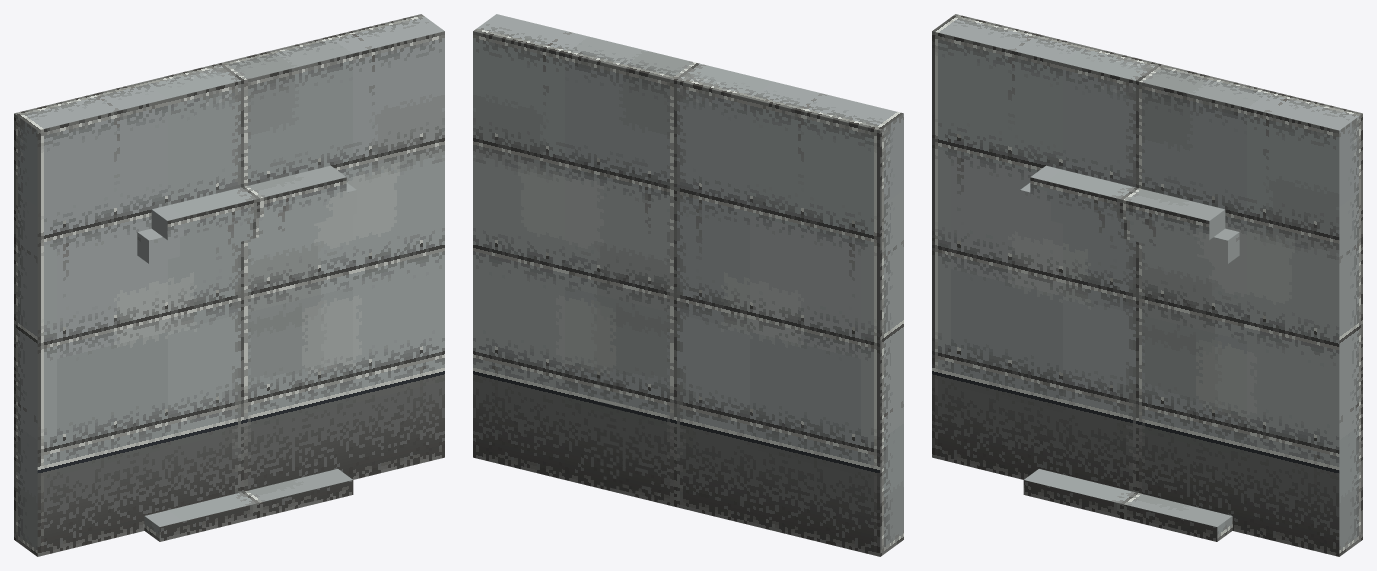
Rendered from arch_wall_variant_b.glb.
The picture shows the model from 3 angles, left to right: view 1: azimuth 30°, elevation 25°; view 2: azimuth 150°, elevation 25°; view 3: azimuth 330°, elevation 25°; orthographic projection.
Visible parts, largest first — view 1: arch_wall_variant_b; view 2: arch_wall_variant_b; view 3: arch_wall_variant_b.
Boxes of the visible parts, x1=… form: arch_wall_variant_b: x1=14, y1=14, x2=444, y2=556; arch_wall_variant_b: x1=473, y1=14, x2=903, y2=556; arch_wall_variant_b: x1=932, y1=14, x2=1362, y2=556.
Size of the model in its own units: 4 by 4 by 0.67.
1 material, 1 textured.
